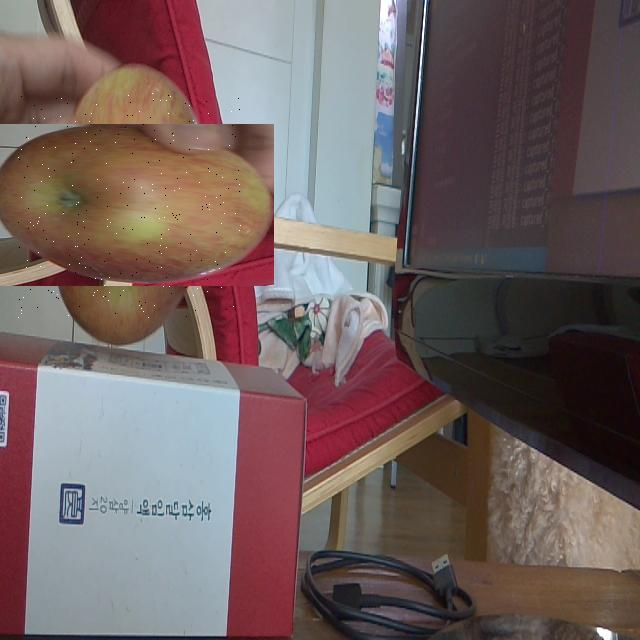apple: (18, 93, 243, 318)
